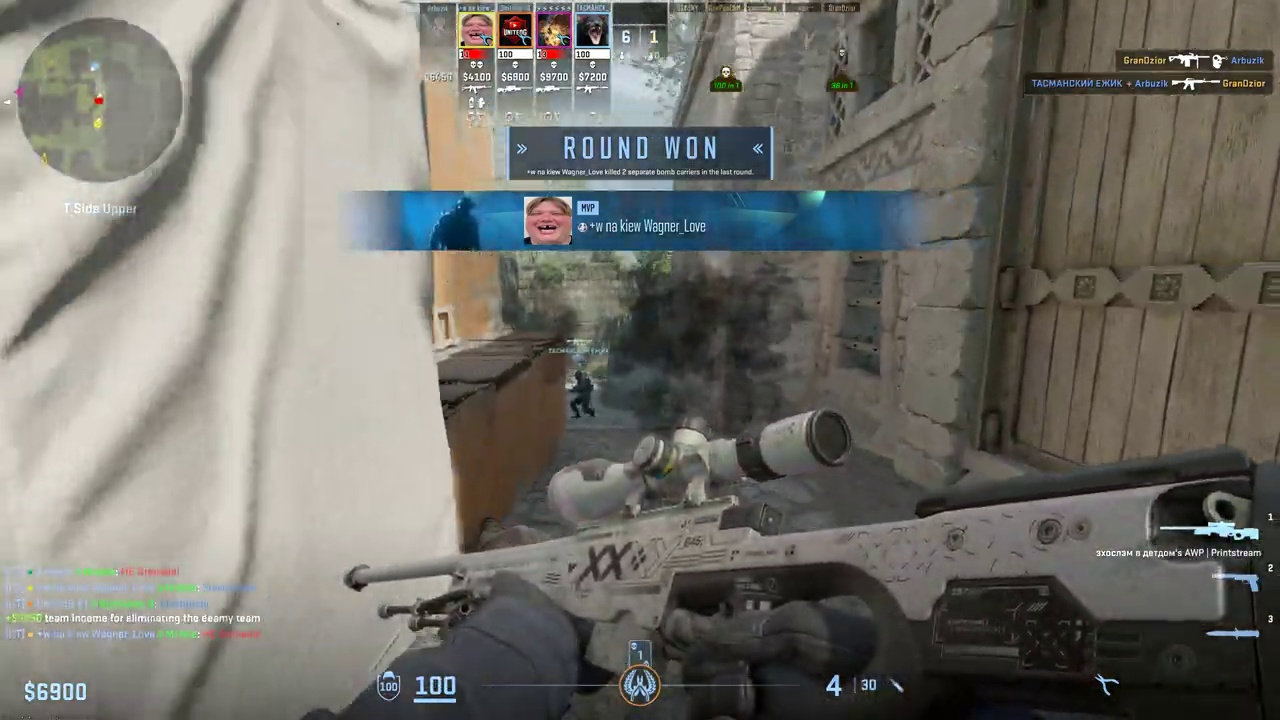CT: (571, 369, 595, 419)
